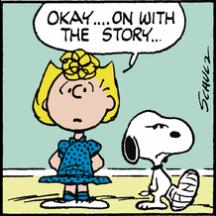snoopy: (121, 107, 201, 212)
